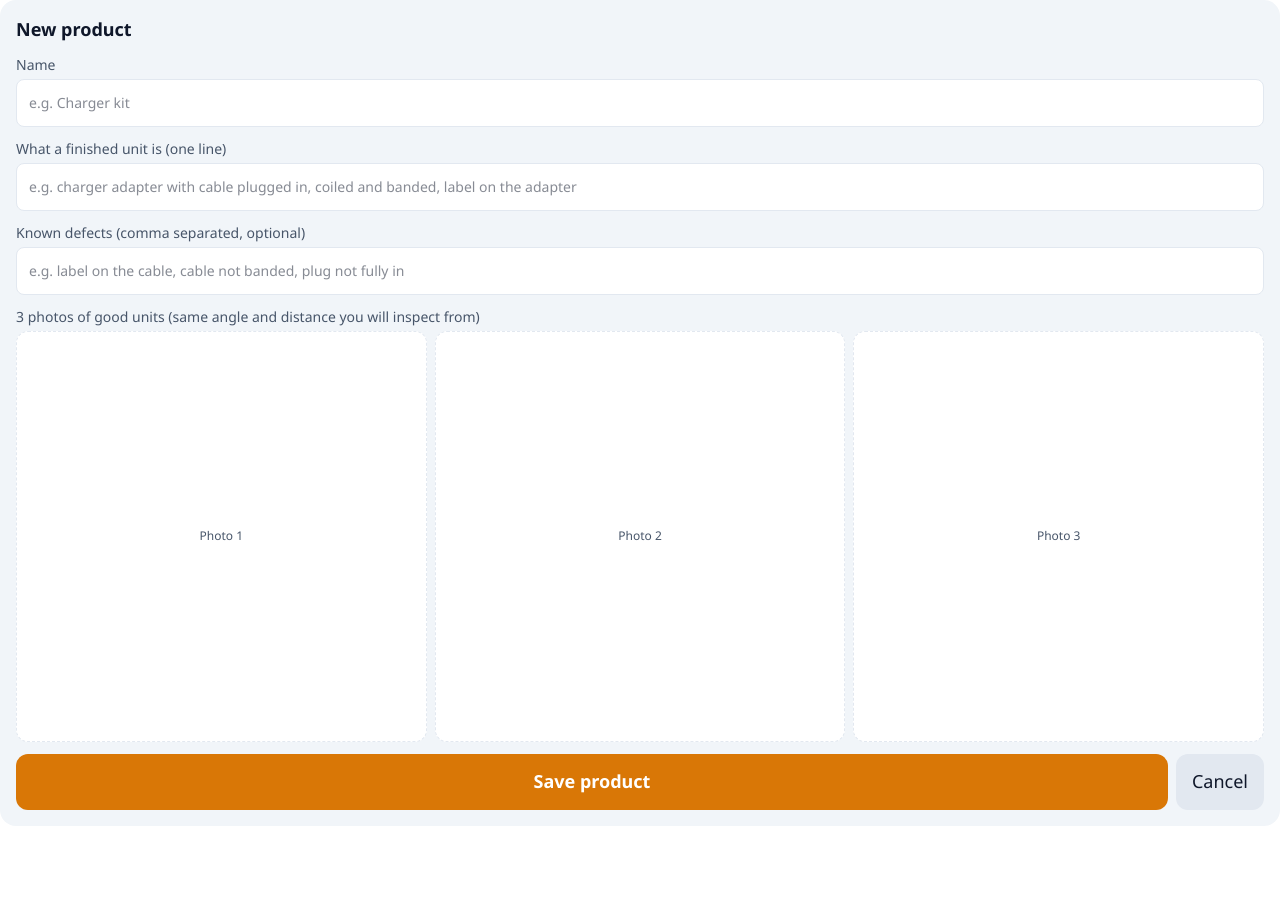
NewProductForm › needs 3 photos before saving
Type "Charger kit" into the field with placeholder "e.g. Charger kit".
click(640, 103); type("Charger kit")  # box [16, 79, 1264, 127]
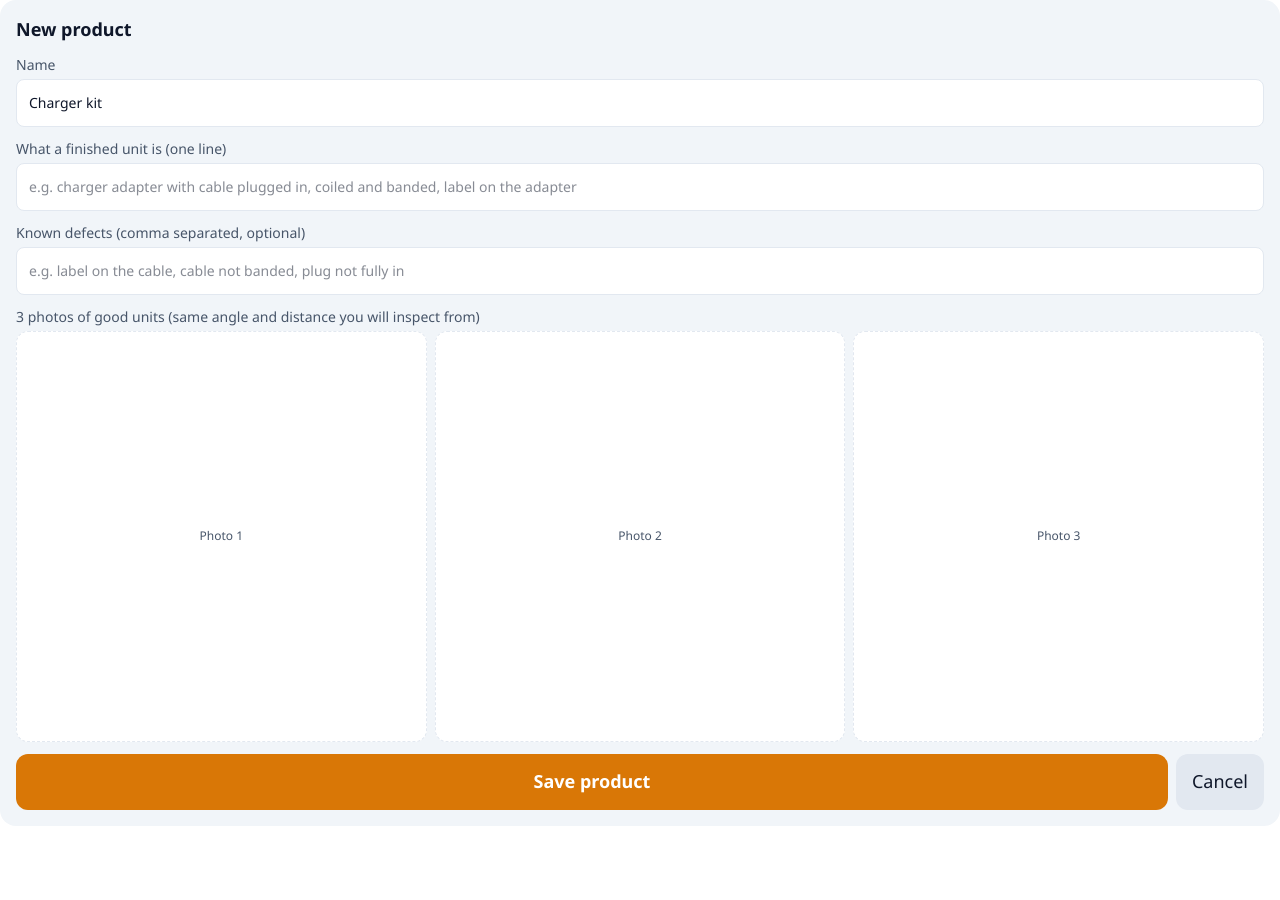
Click the button "Save product".
click(592, 782)  # box [16, 754, 1168, 810]
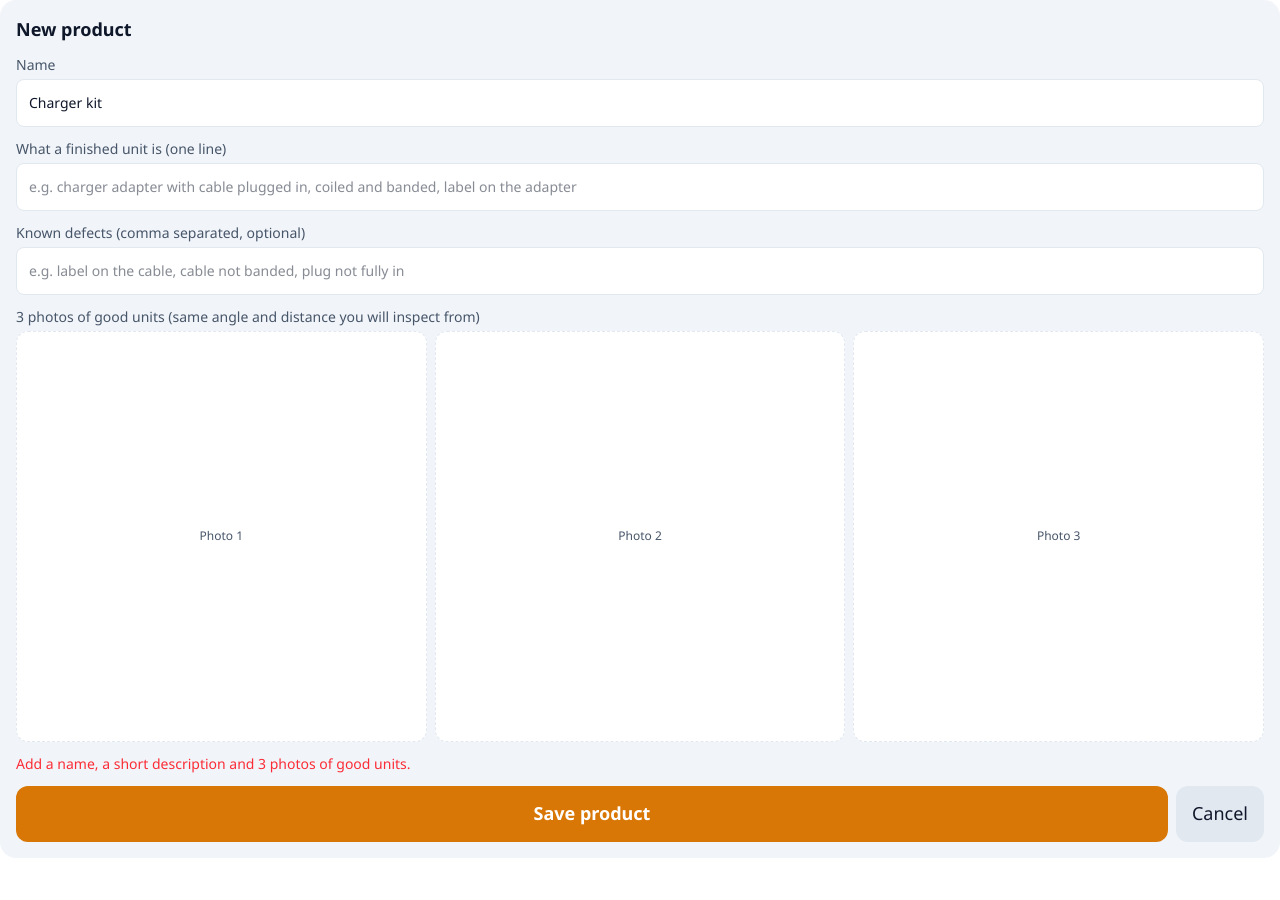
Result: the message shows "3 photos" at [16, 754, 410, 773]
